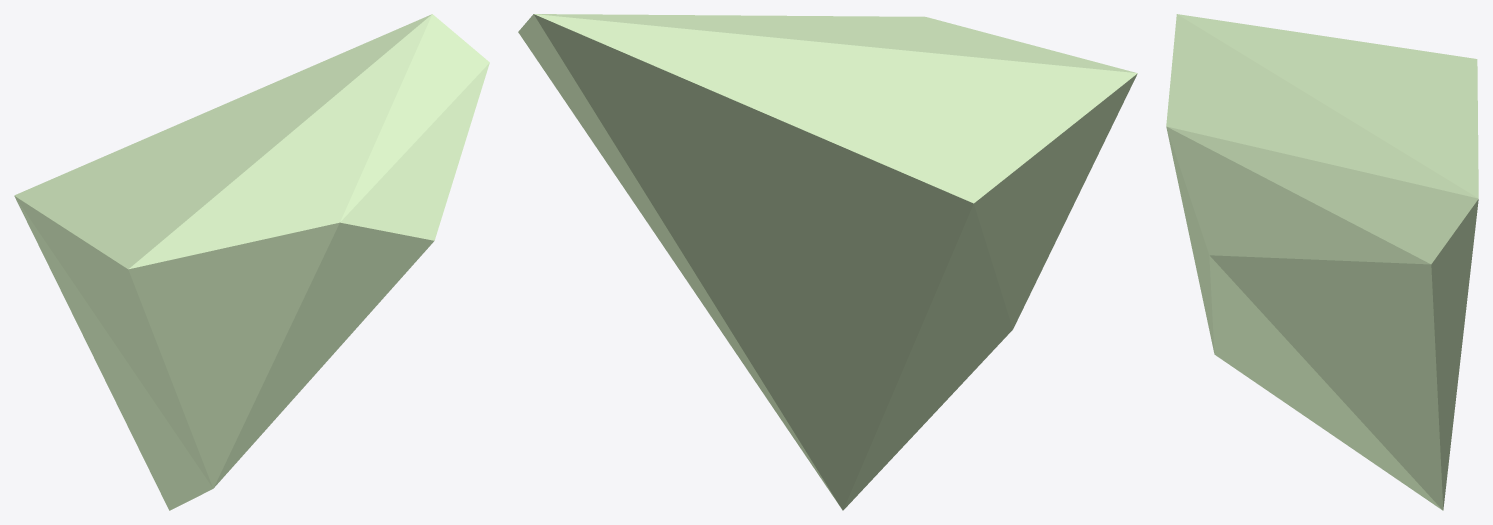
Rendered from kuka_URDF_robot_base_coll_9.dae.
The picture shows the model from 3 angles, left to right: view 1: azimuth 30°, elevation 25°; view 2: azimuth 150°, elevation 25°; view 3: azimuth 270°, elevation 25°; orthographic projection. The views are drawn at different scales.
Visible parts, largest first — view 1: Node_0000020FCC58E1D0; view 2: Node_0000020FCC58E1D0; view 3: Node_0000020FCC58E1D0.
Part boxes in pixels (x1,y1,x2,y2): Node_0000020FCC58E1D0: (14,14,489,510); Node_0000020FCC58E1D0: (518,14,1137,510); Node_0000020FCC58E1D0: (1166,14,1478,510).
Bounding box in the file's own units: 0.0264 × 0.0221 × 0.0135.
